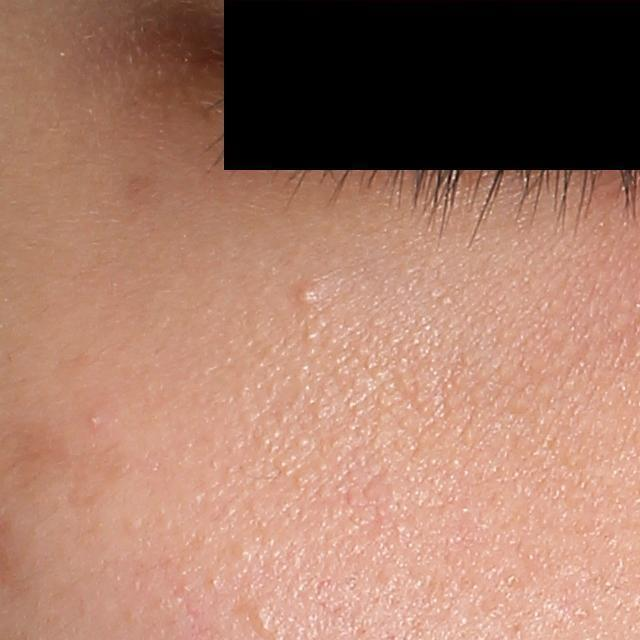comedo: (293, 283, 324, 309), (255, 608, 275, 634), (84, 415, 103, 428)
melasma: (120, 166, 167, 229)
